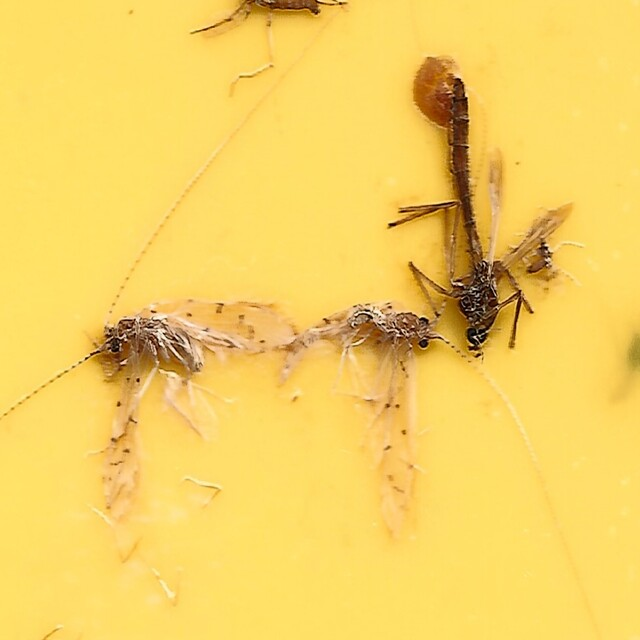Nematocera: (387, 73, 534, 361), (523, 228, 585, 290)
Plecoptera: (55, 279, 302, 567), (280, 301, 447, 547)
